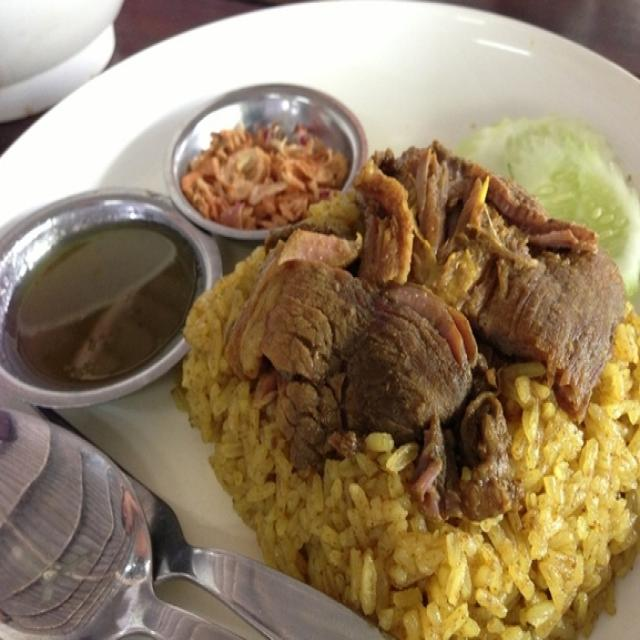米饭主食: (5, 7, 628, 634)
